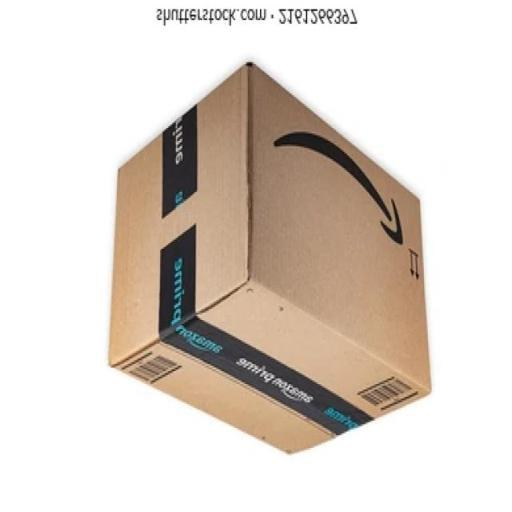Amazon: (114, 61, 434, 459)
